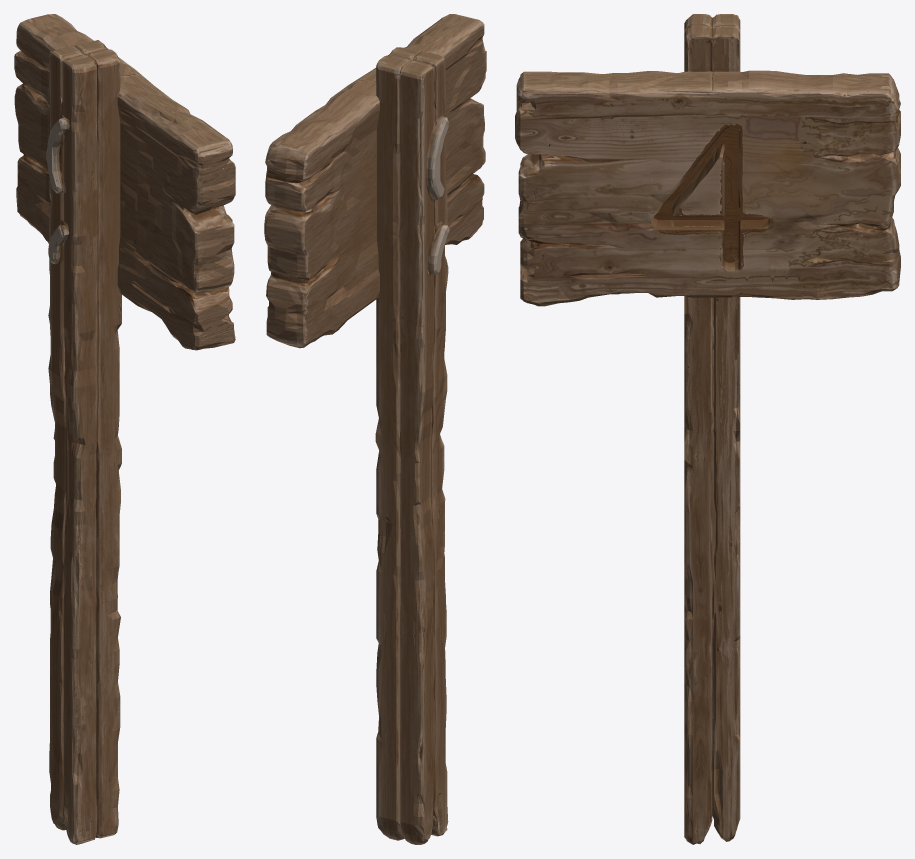
Rendered from Letrero 4.glb.
3 views of the same model, side by side, from view 1: azimuth 30°, elevation 25°; view 2: azimuth 150°, elevation 25°; view 3: azimuth 270°, elevation 25° (orthographic). The views are drawn at different scales.
Parts seen in each view (by area): view 1: tripo_node_dd35e1a9-e386-4785-91bc-20094eaa0e2d; view 2: tripo_node_dd35e1a9-e386-4785-91bc-20094eaa0e2d; view 3: tripo_node_dd35e1a9-e386-4785-91bc-20094eaa0e2d.
Boxes of the visible parts, x1,y1,x2,y2 form: tripo_node_dd35e1a9-e386-4785-91bc-20094eaa0e2d: (14,14,235,844); tripo_node_dd35e1a9-e386-4785-91bc-20094eaa0e2d: (264,14,486,844); tripo_node_dd35e1a9-e386-4785-91bc-20094eaa0e2d: (515,14,900,844).
Size of the model in its own units: 0.1213 by 1 by 0.4325.
1 material, 1 textured.
